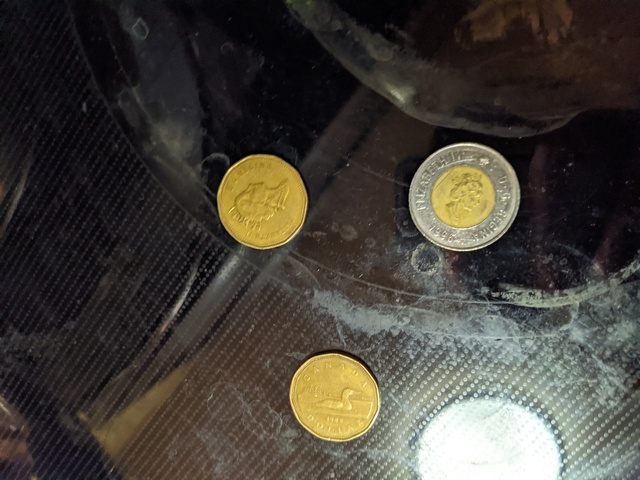loonie: (270, 342, 391, 446), (217, 151, 321, 256)
twonie: (399, 138, 528, 258)
